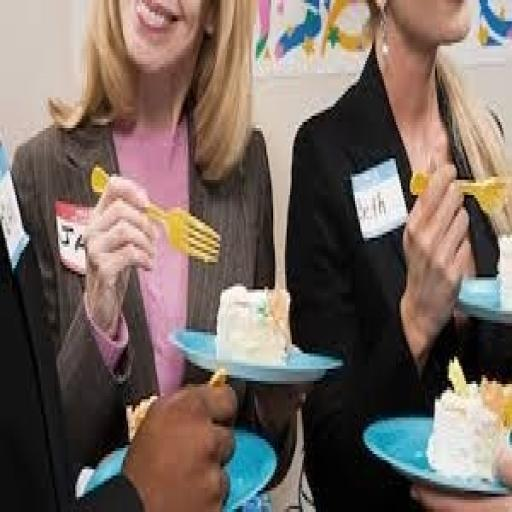eating: (5, 0, 282, 506)
